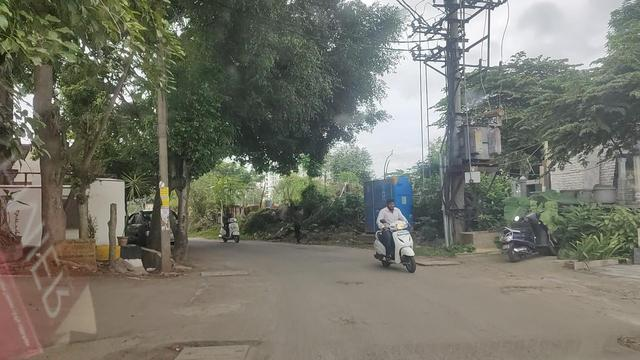LMV: (373, 200, 416, 276)
RoadDamages: (488, 273, 561, 305)
